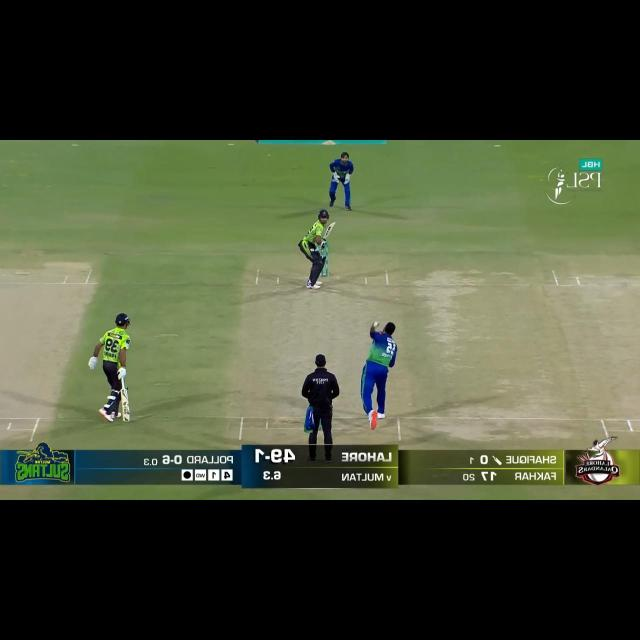bat: (118, 388, 134, 422), (323, 220, 338, 240)
toe: (122, 413, 132, 422), (327, 222, 336, 228)
